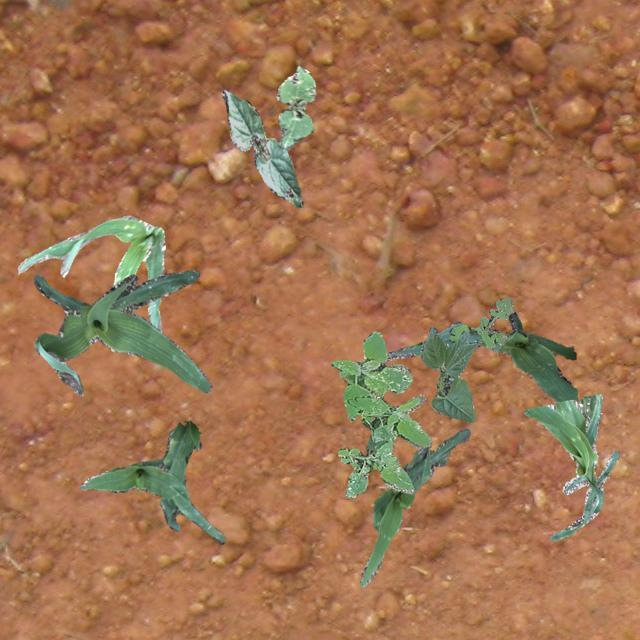crop: (32, 270, 210, 394), (78, 418, 224, 542), (384, 310, 576, 402), (358, 428, 468, 586), (17, 215, 165, 332), (522, 392, 618, 540), (220, 88, 302, 206), (420, 326, 480, 422), (276, 64, 314, 150)
weed: (330, 330, 430, 498), (448, 296, 512, 348)
